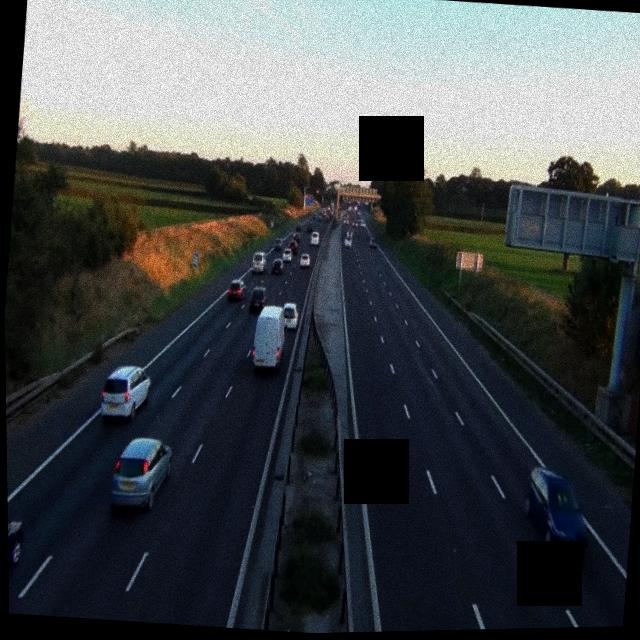car: (521, 466, 592, 558), (107, 435, 174, 514), (98, 362, 152, 421), (250, 303, 286, 370), (8, 516, 24, 585), (225, 276, 248, 302), (247, 286, 266, 312), (282, 303, 299, 329), (251, 252, 267, 274), (269, 254, 285, 276), (297, 250, 310, 267), (287, 239, 298, 256), (310, 230, 319, 245), (344, 233, 353, 248), (369, 235, 378, 248), (294, 222, 302, 233)
